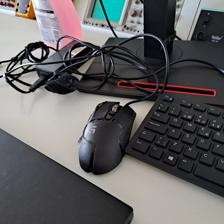mouse: (75, 100, 137, 176)
